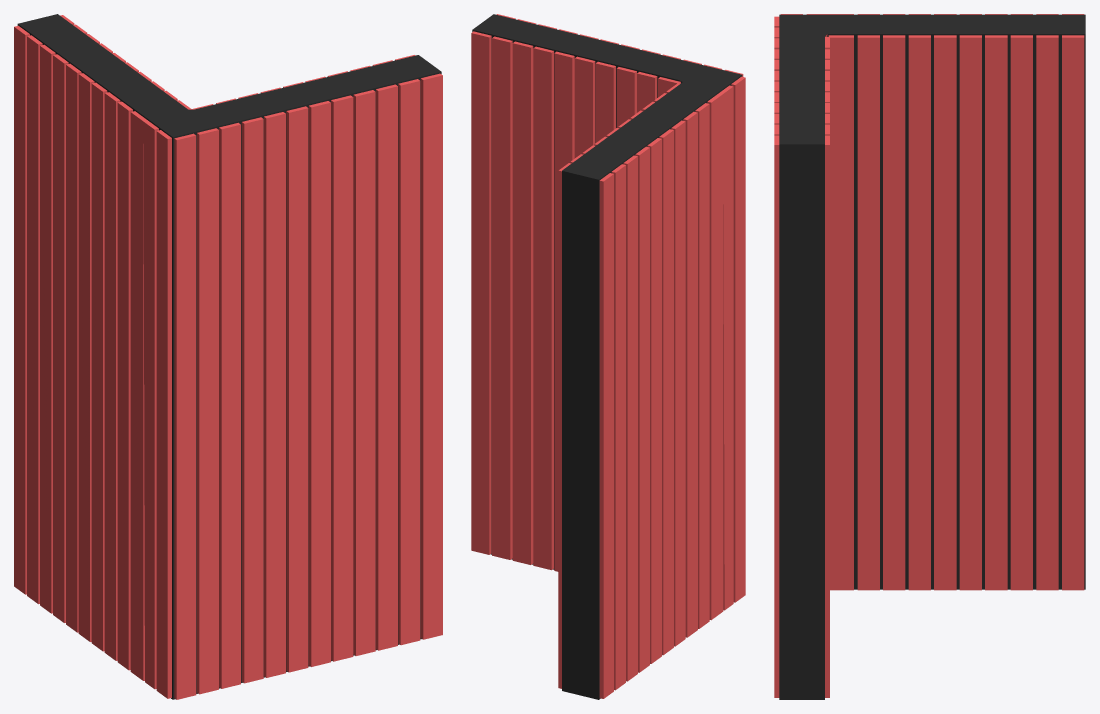
File: PinkBoardsCorner.glb
3 views of the same model, side by side, from view 1: azimuth 30°, elevation 25°; view 2: azimuth 150°, elevation 25°; view 3: azimuth 270°, elevation 25° (orthographic). The views are drawn at different scales.
Parts seen in each view (by area): view 1: wall_verticalBoards_thin_corner; view 2: wall_verticalBoards_thin_corner; view 3: wall_verticalBoards_thin_corner.
Part boxes in pixels (x1,y1,x2,y2): wall_verticalBoards_thin_corner: (14, 14, 442, 699); wall_verticalBoards_thin_corner: (471, 14, 745, 699); wall_verticalBoards_thin_corner: (774, 14, 1085, 699).
Size of what is drawn, in the model's own units: 2.03 by 4 by 2.03.
1 material, 1 textured.
